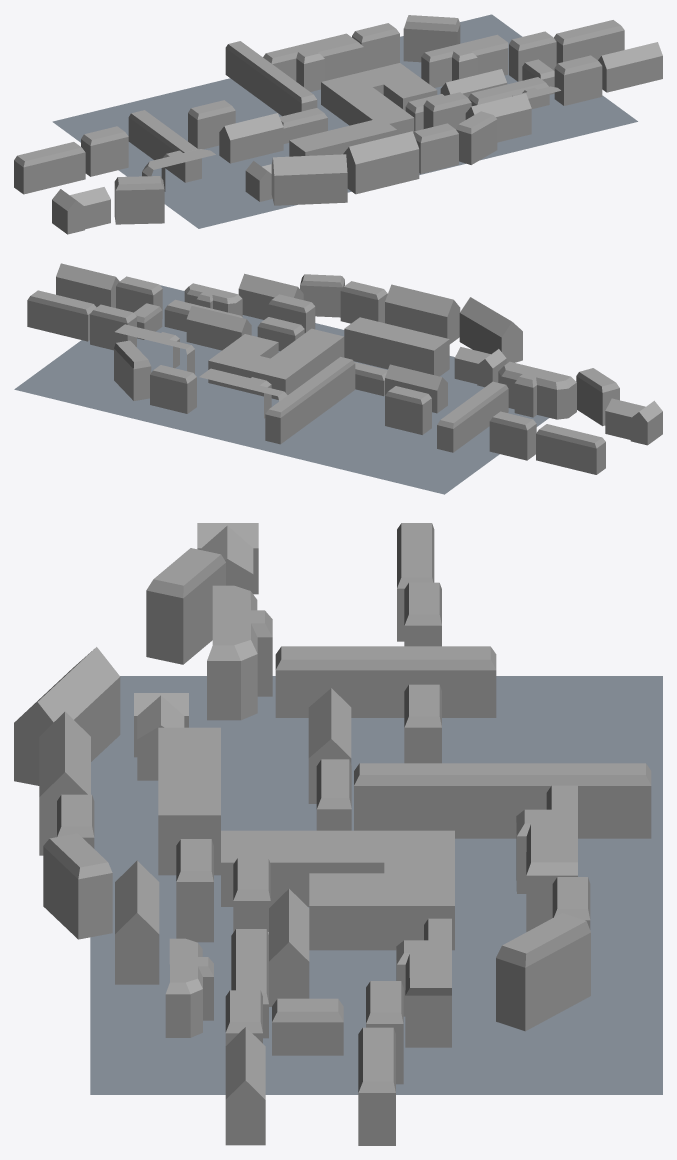
The model's file is gltf__Models__map__Village__cityHall__tuto_cityHall_buildBox.glb.
3 renders of one model, top to bottom at view 1: azimuth 30°, elevation 25°; view 2: azimuth 150°, elevation 25°; view 3: azimuth 270°, elevation 25°, orthographic. The views are drawn at different scales.
Visible parts, largest first — view 1: tuto_cityHall_buildBox; view 2: tuto_cityHall_buildBox; view 3: tuto_cityHall_buildBox.
Part boxes in pixels (<box>): tuto_cityHall_buildBox: <box>14,14,662,234</box>; tuto_cityHall_buildBox: <box>14,263,662,494</box>; tuto_cityHall_buildBox: <box>14,523,662,1145</box>.
Size of the model in its own units: 156 by 14.01 by 74.66.
2 materials, 1 textured.
